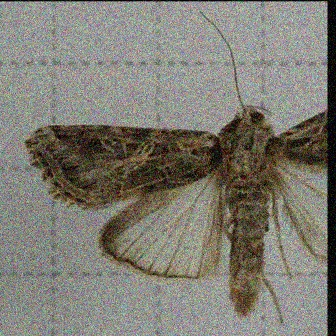Spodoptera litura: (23, 10, 327, 324)
